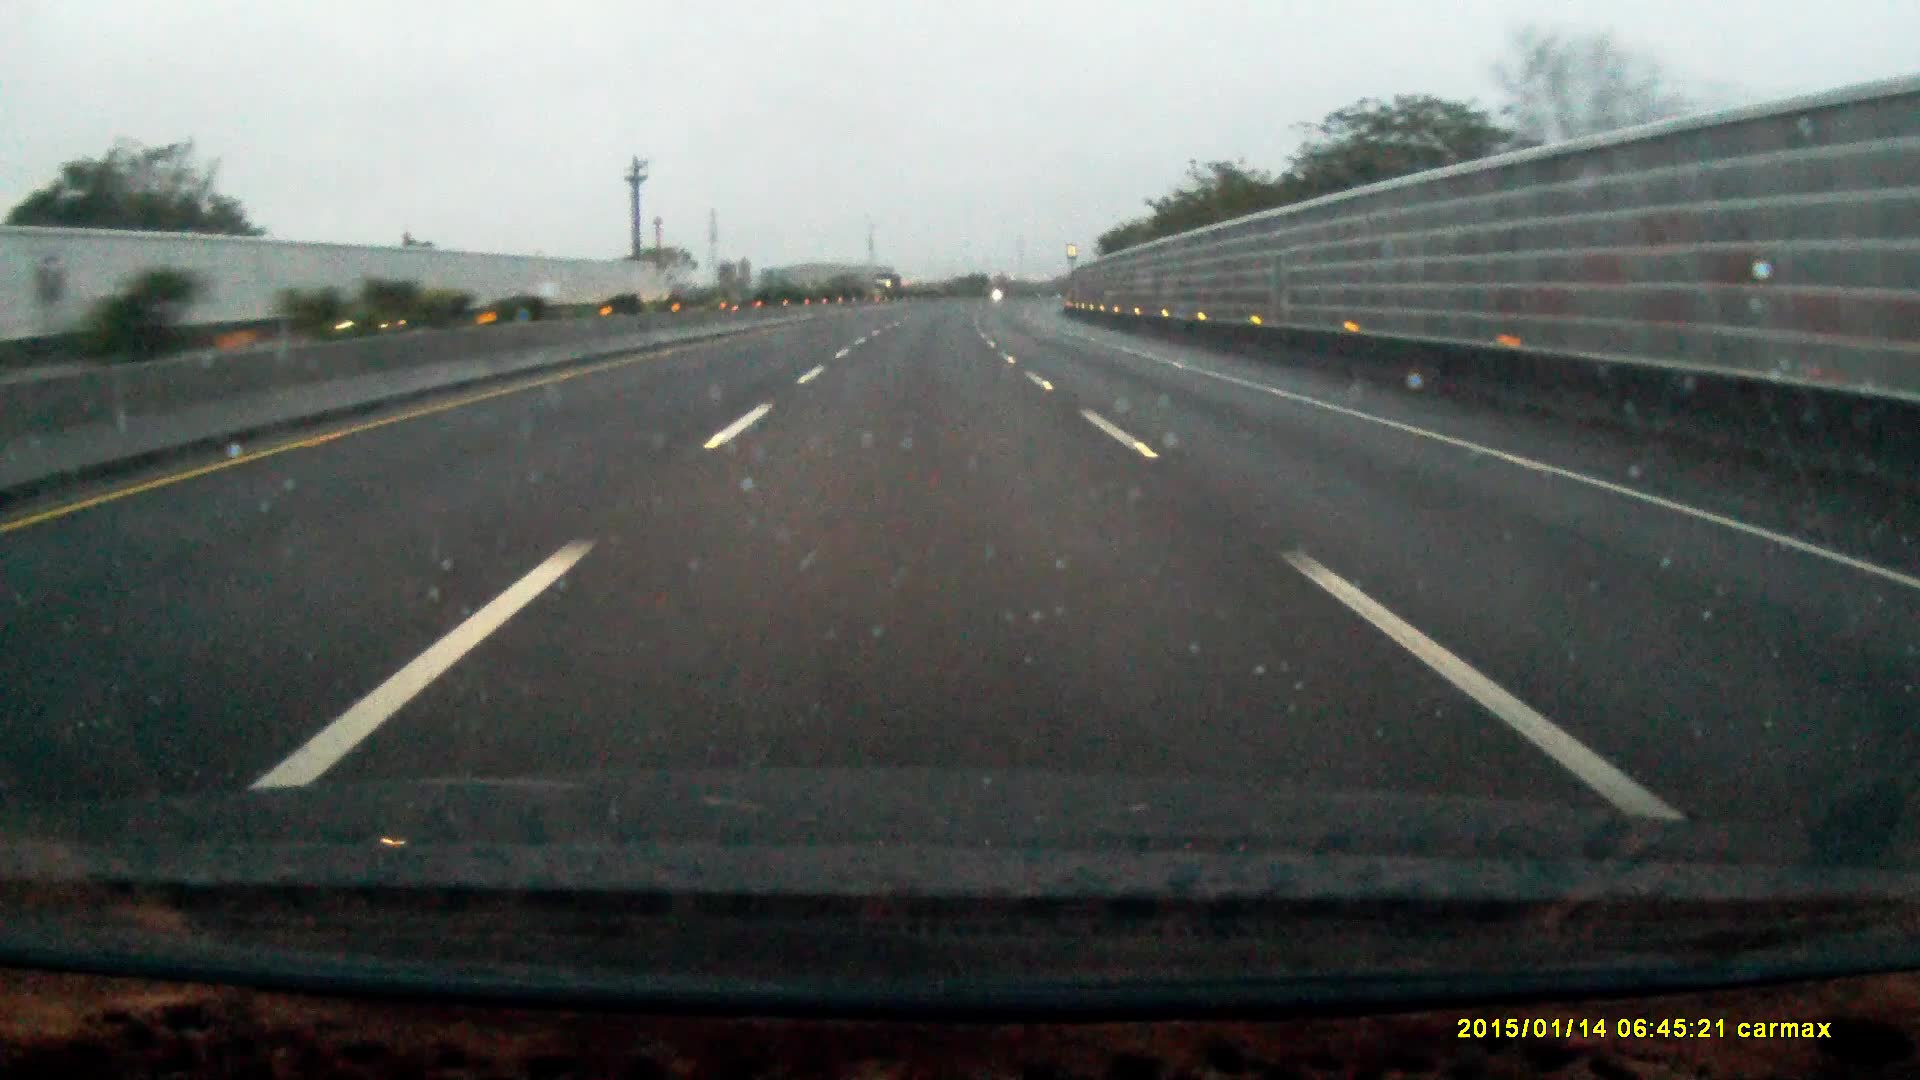vehicle: (876, 276, 903, 302)
